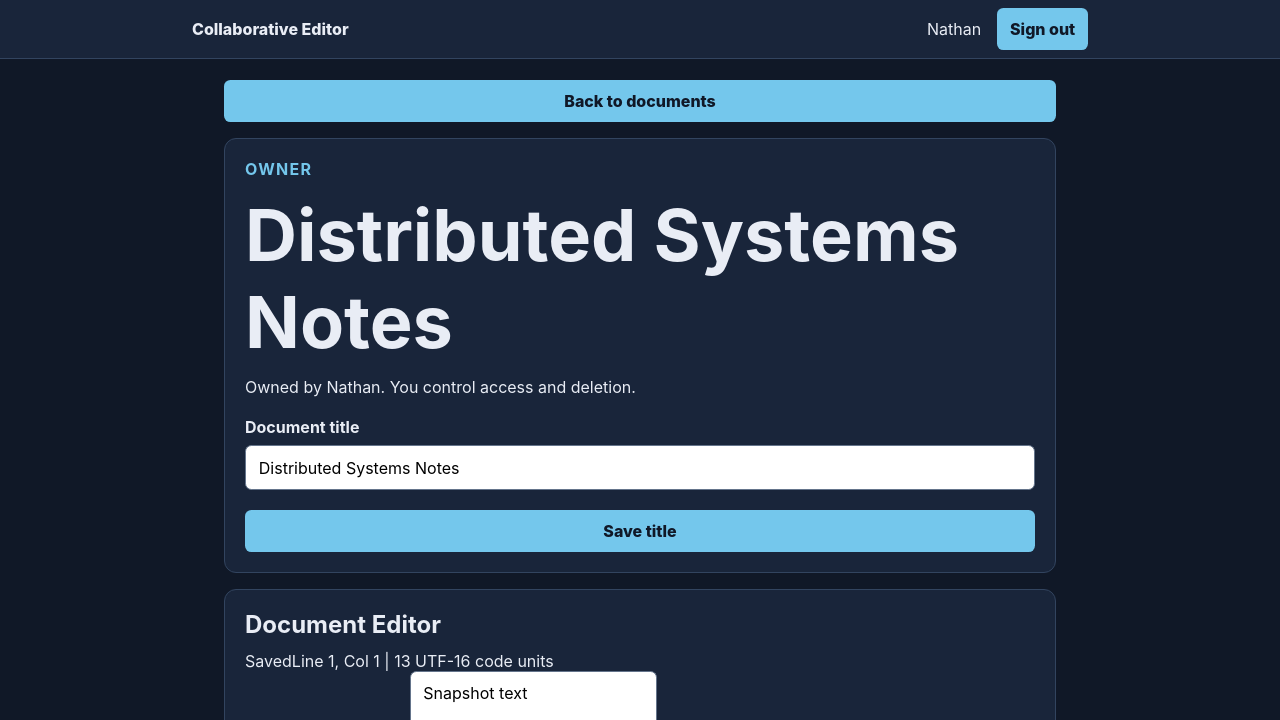
it: document management flows › opens an owner document, renames it, shares it, revokes access, and deletes it
The width and height of the screenshot is (1280, 720).
Replace the text in the field labelled "Document title" with "Renamed notes" at (640, 468), box [245,445,1035,490]
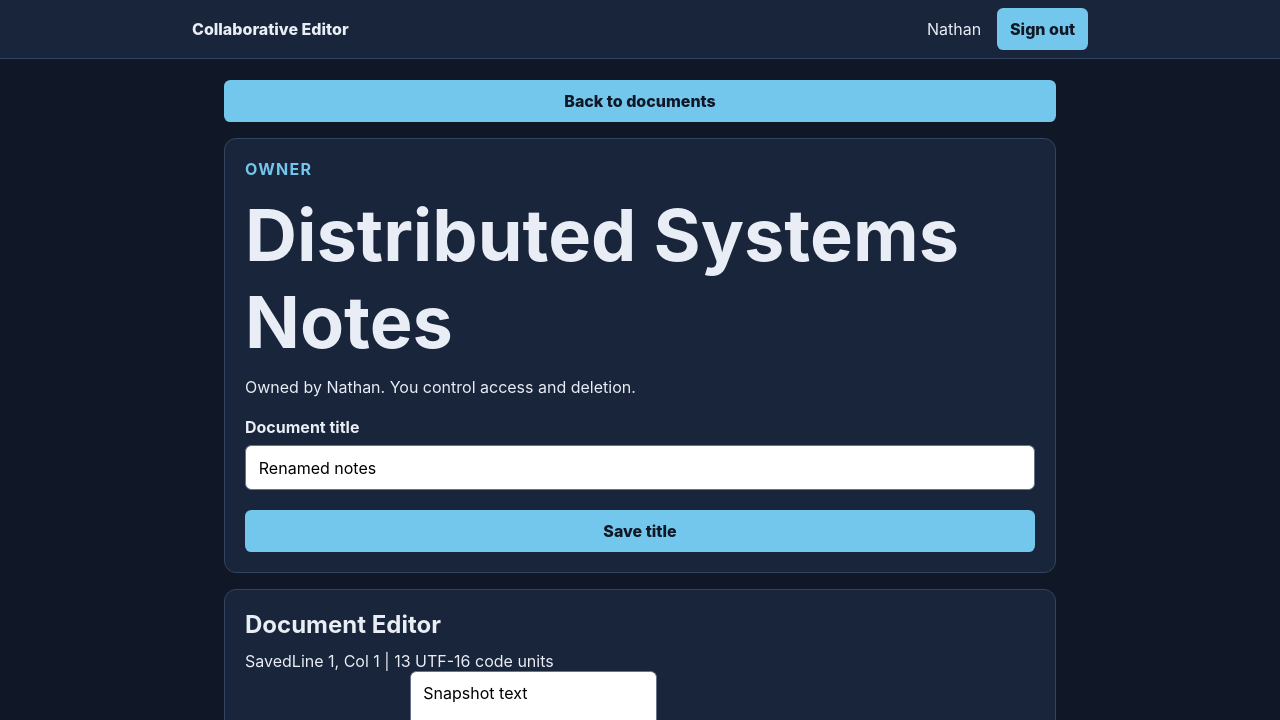
Click the button "Save title" at (640, 531), box [245,510,1035,552]
(page scrolled)
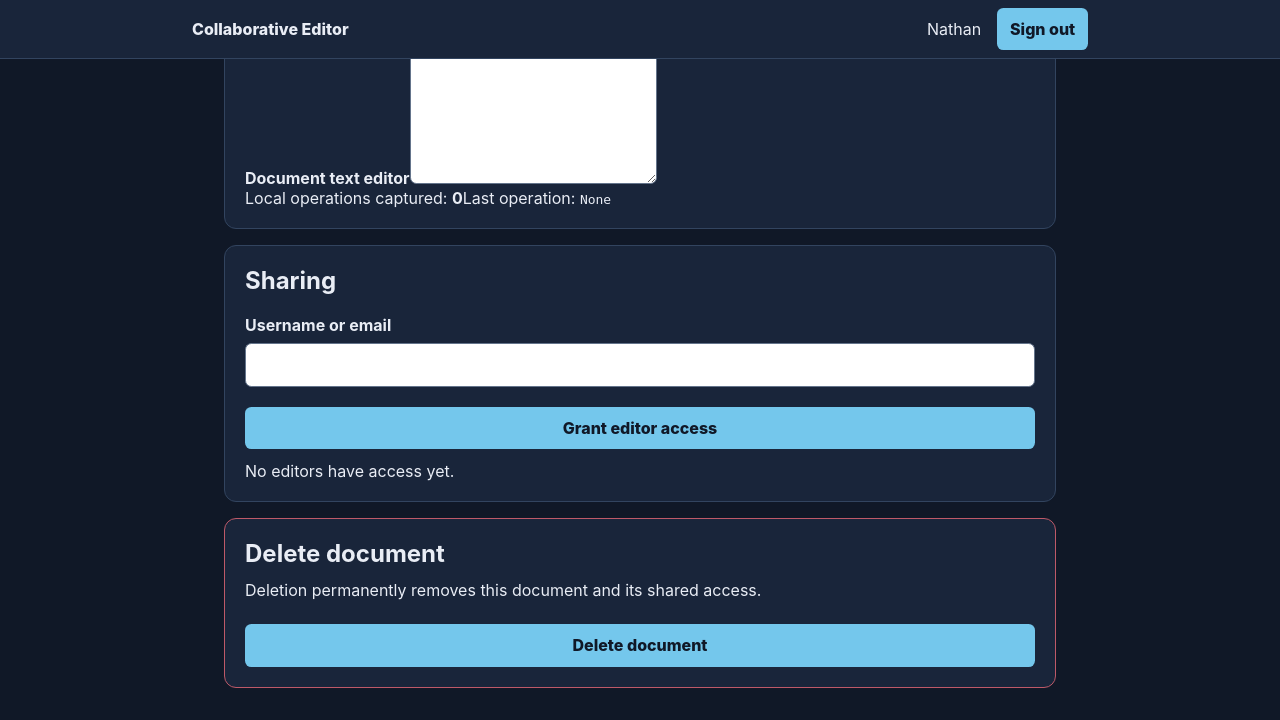
Type " collaborator@example.com " into the field labelled "Username or email" at (640, 365), box [245,342,1035,387]
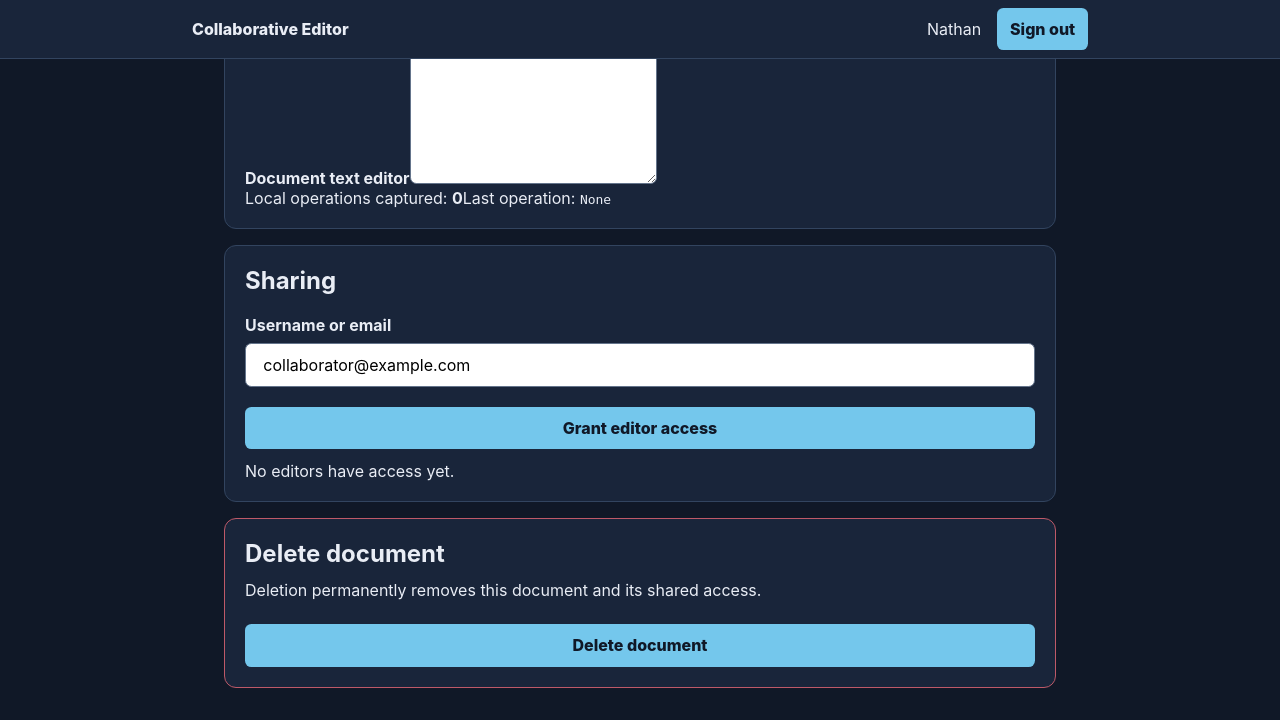
Click the button "Grant editor access" at (640, 428), box [245,407,1035,449]
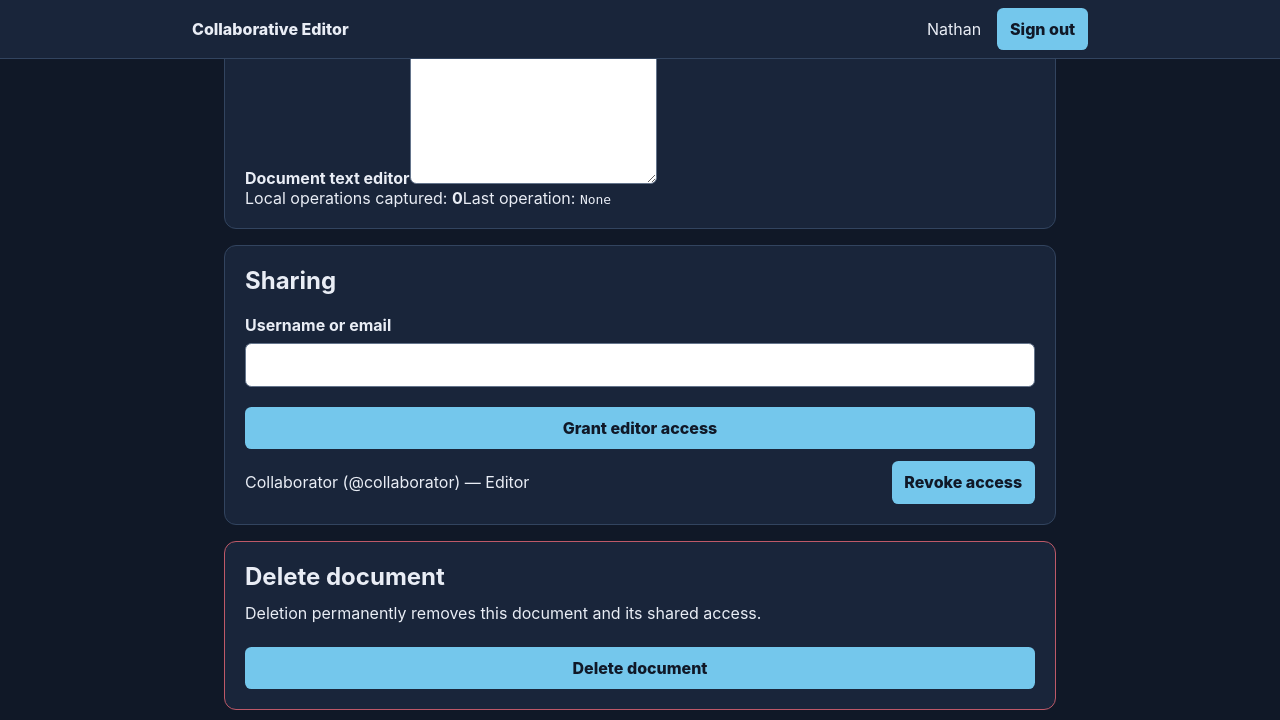
Expected: the text "Collaborator (@collaborator) — Editor" is shown, [245,472,529,492]
Click the button "Revoke access" at (963, 482), box [892,461,1035,504]
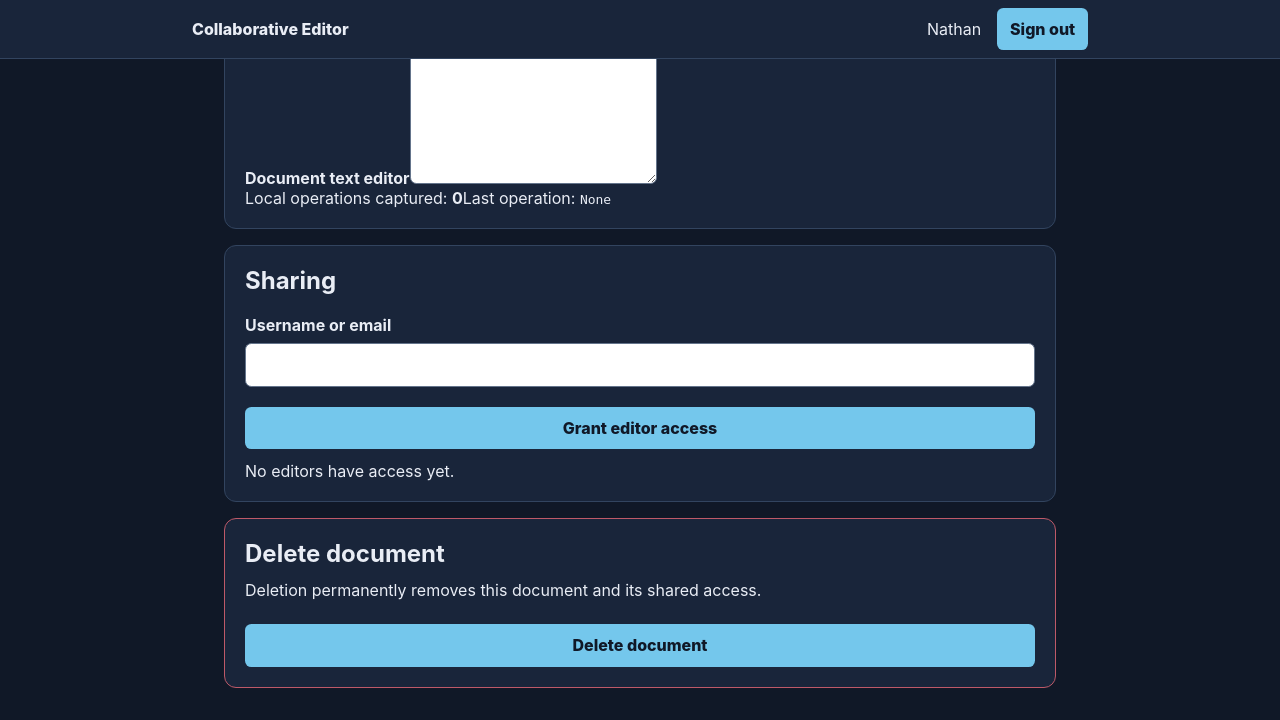
Expected: the list item "No editors have access yet." is shown, [245,461,454,481]
Click the button "Delete document" at (640, 646), box [245,624,1035,667]
(page scrolled)
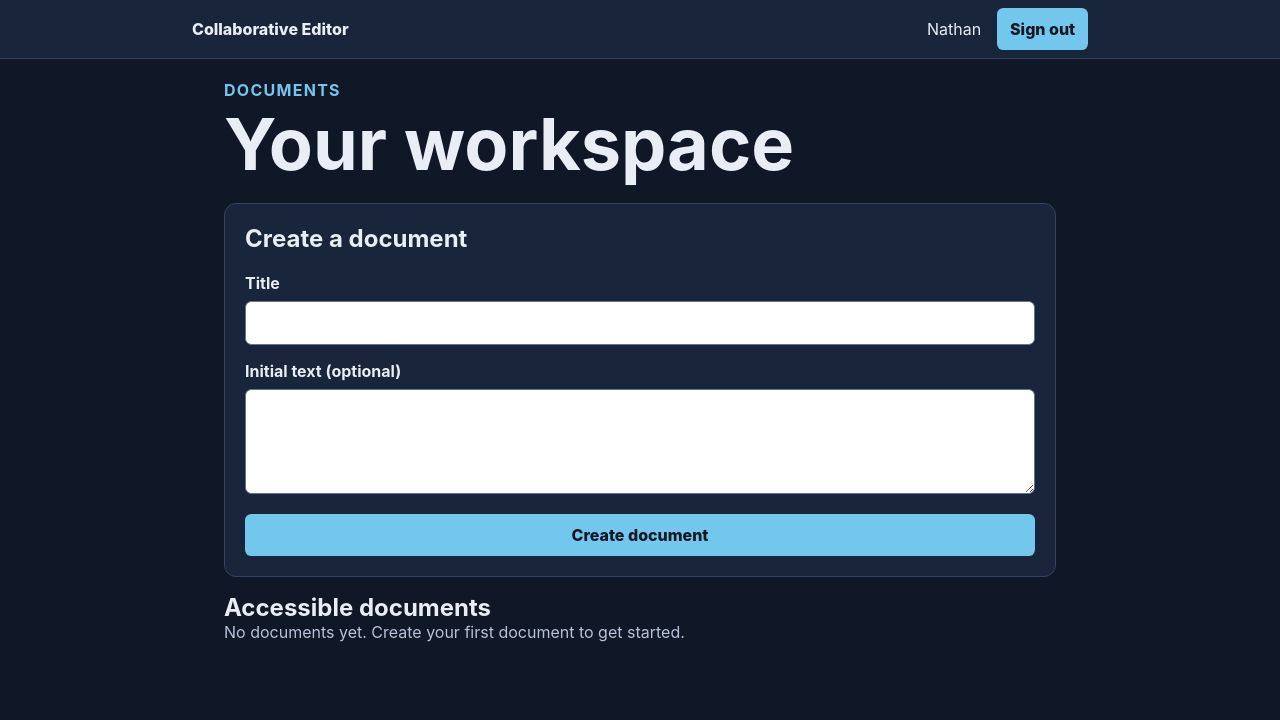
Expected: the heading "Your workspace" is shown, [224,100,794,187]
